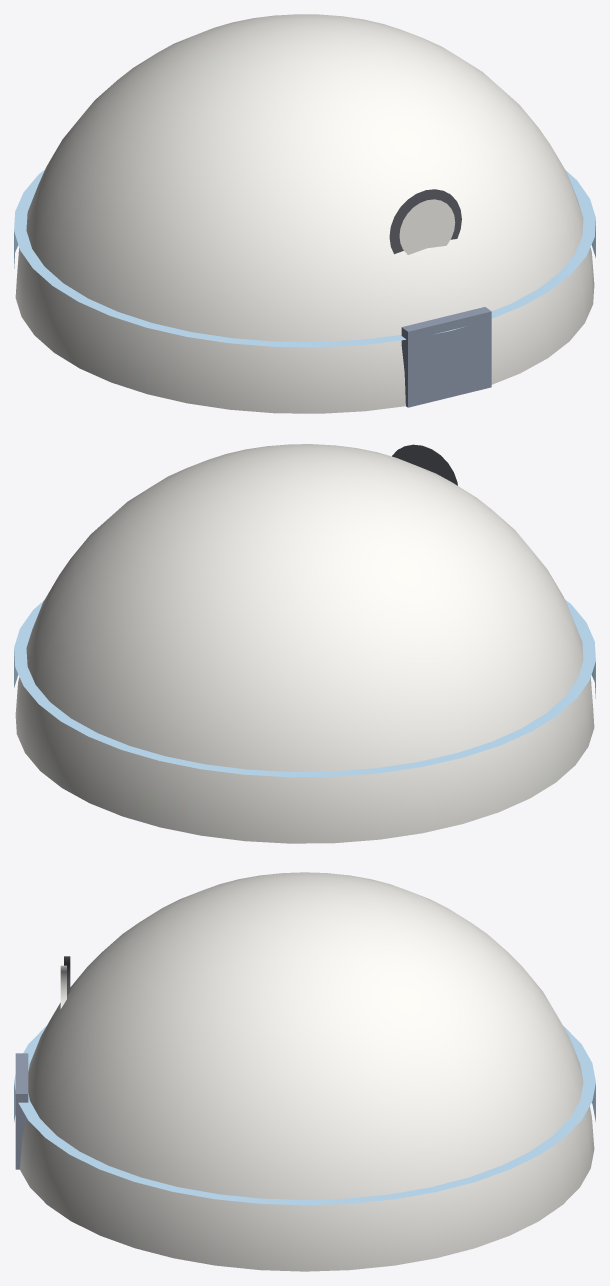
File: capsule_dome.glb
3 renders of one model, top to bottom at view 1: azimuth 30°, elevation 25°; view 2: azimuth 150°, elevation 25°; view 3: azimuth 270°, elevation 25°, orthographic.
Bounding box in the file's own units: 18.1 × 8.55 × 18.1.
